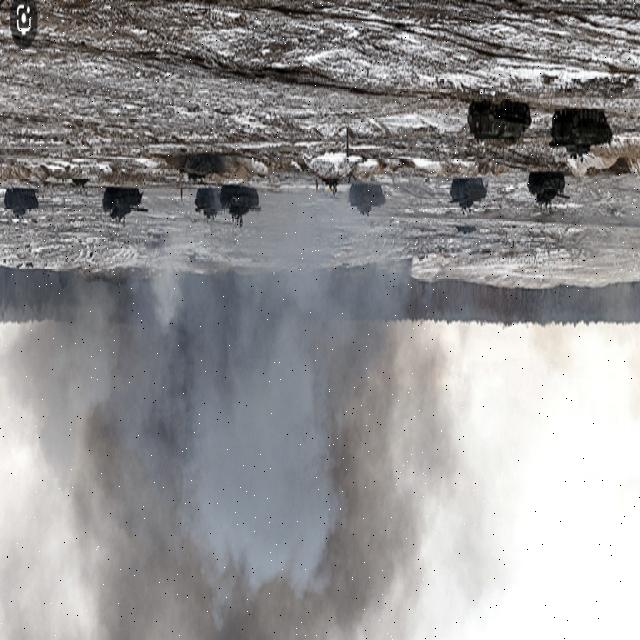APC-IFV: (466, 96, 532, 156), (550, 110, 614, 161), (348, 179, 388, 220), (1, 186, 39, 223), (448, 178, 488, 212), (193, 189, 226, 225)
TANK: (526, 171, 574, 212), (100, 187, 144, 231), (220, 186, 262, 220)
